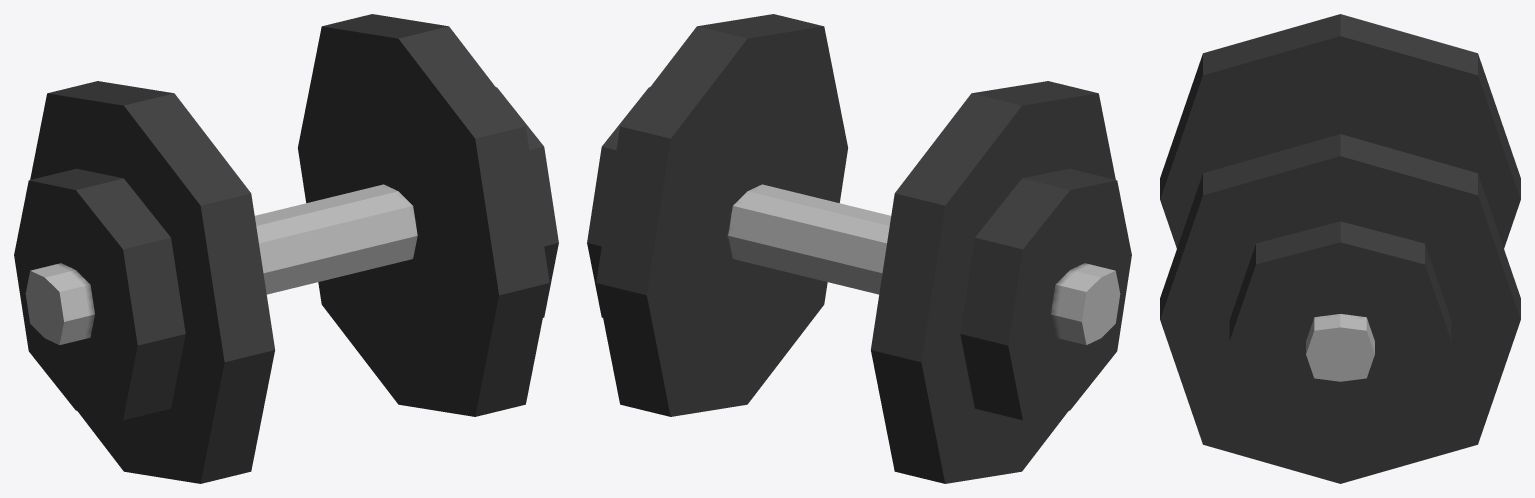
Rendered from Dumbbell_Main.fbx.
3 views of the same model, side by side, from view 1: azimuth 30°, elevation 25°; view 2: azimuth 150°, elevation 25°; view 3: azimuth 270°, elevation 25° (orthographic). The views are drawn at different scales.
Visible parts, largest first — view 1: Dumbbell_Low; view 2: Dumbbell_Low; view 3: Dumbbell_Low.
Boxes of the visible parts, x1=… form: Dumbbell_Low: x1=14, y1=14, x2=558, y2=483; Dumbbell_Low: x1=587, y1=14, x2=1131, y2=483; Dumbbell_Low: x1=1160, y1=14, x2=1520, y2=483.
Bounding box in the file's own units: 52.88 × 38.27 × 38.16.
1 material, 1 textured.
